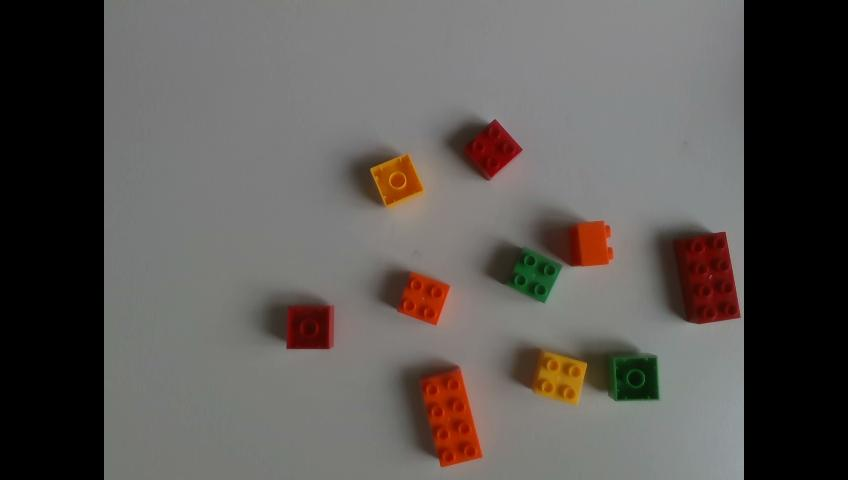2x2_green: (508, 245, 561, 299), (612, 356, 659, 401)
2x2_orange: (393, 272, 450, 324), (571, 219, 611, 264)
2x2_red: (464, 117, 523, 176), (287, 305, 332, 348)
2x2_yellow: (529, 351, 587, 407), (371, 152, 423, 206)
4x2_orange: (422, 369, 480, 465)
4x2_red: (676, 230, 739, 321)
